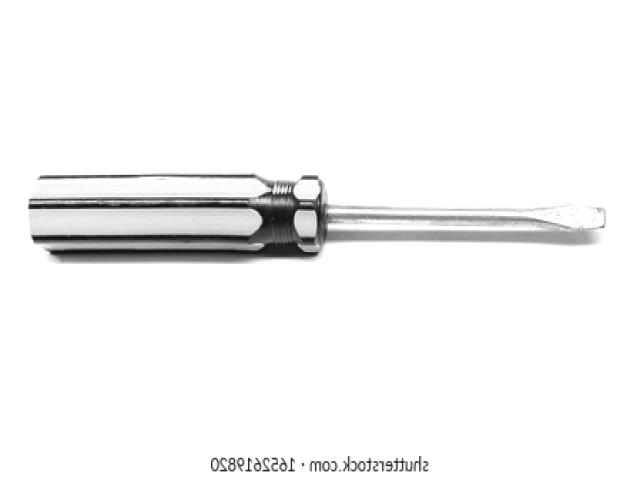Screwdriver: (29, 174, 605, 254)
